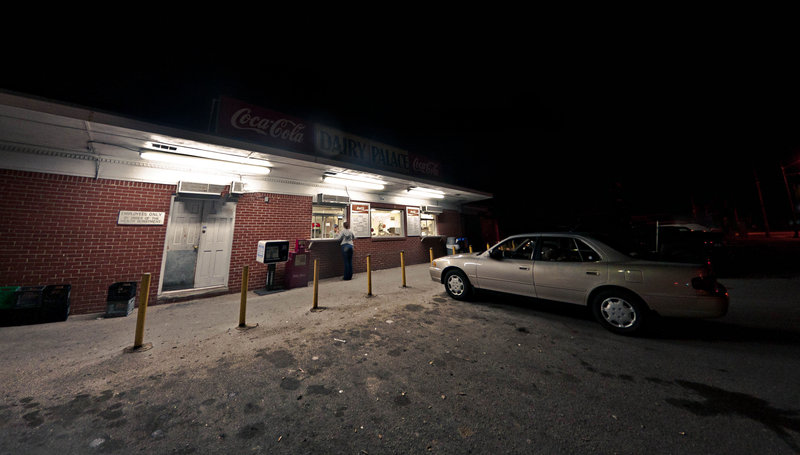car: (661, 225, 737, 262)
